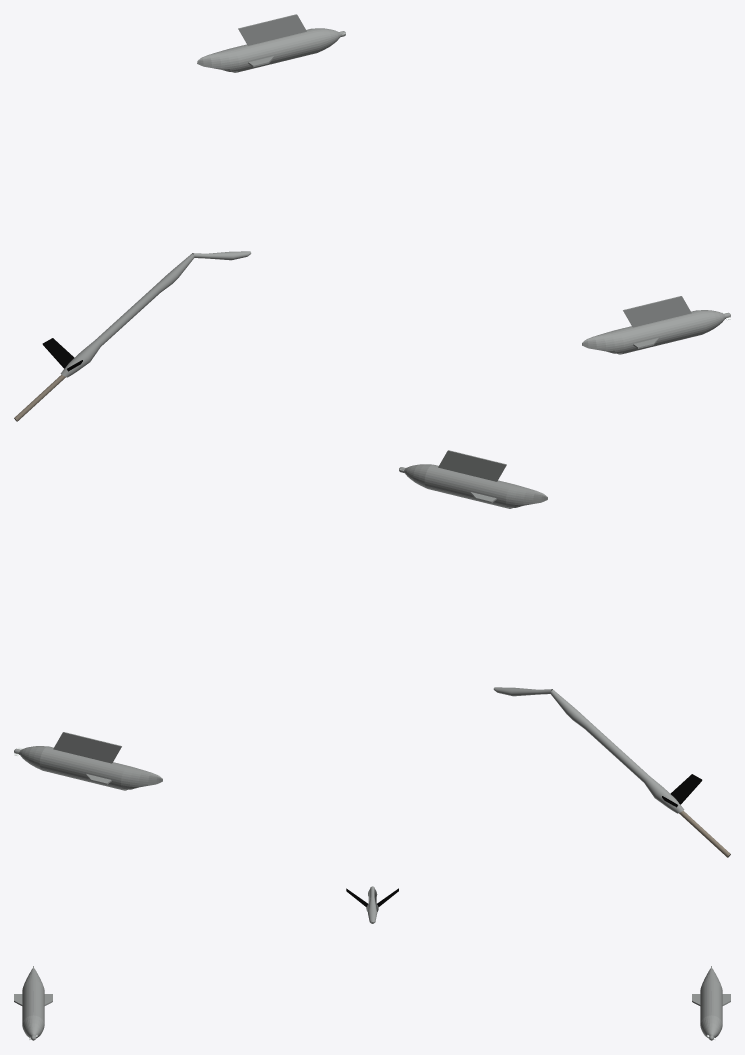
File: mrttbon.glb
3 renders of one model, top to bottom at view 1: azimuth 30°, elevation 25°; view 2: azimuth 150°, elevation 25°; view 3: azimuth 270°, elevation 25°, orthographic. The views are drawn at different scales.
Visible parts, largest first — view 1: 立方体.003, 立方体, boom; view 2: 立方体, 立方体.003, boom; view 3: 立方体, 立方体.003, boom.
Part boxes in pixels (bbox=[...]): 立方体.003: bbox=[582, 296, 730, 354]; 立方体: bbox=[197, 14, 345, 72]; boom: bbox=[42, 254, 194, 377]; 立方体: bbox=[14, 732, 162, 790]; 立方体.003: bbox=[399, 450, 547, 508]; boom: bbox=[550, 690, 702, 813]; 立方体: bbox=[692, 966, 730, 1040]; 立方体.003: bbox=[14, 966, 52, 1040]; boom: bbox=[346, 888, 398, 912].
Size of the model in its own units: 32.6 by 8.99 by 43.88.
8 materials, 1 textured.
